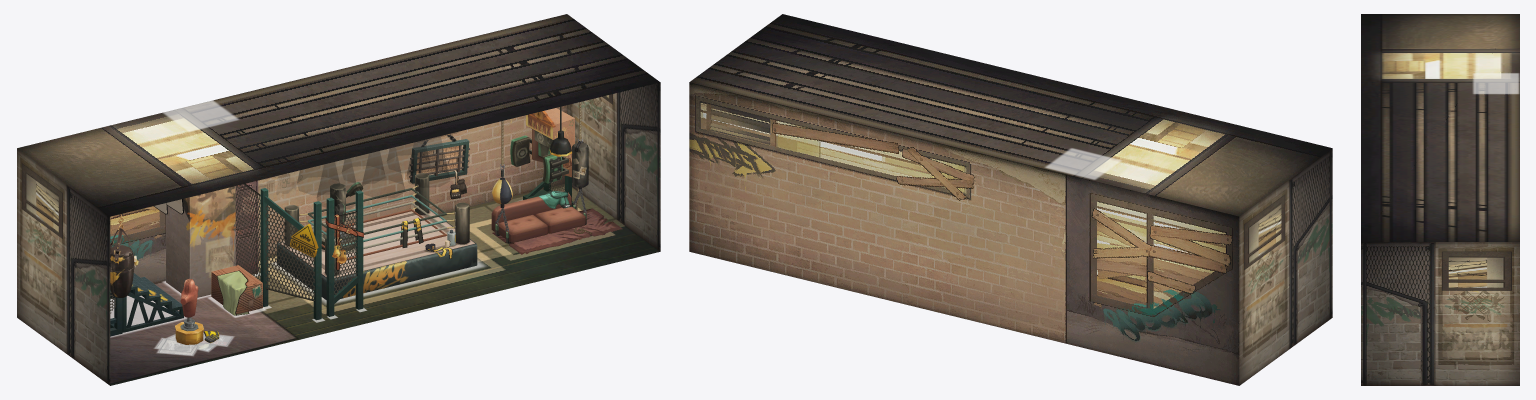
The model's file is boxing.glb.
3 views of the same model, side by side, from view 1: azimuth 30°, elevation 25°; view 2: azimuth 150°, elevation 25°; view 3: azimuth 270°, elevation 25° (orthographic). The views are drawn at different scales.
Parts seen in each view (by area): view 1: ROOM_room, ROOM_floor, furni_boxing_arena_01, furni_boxing_ceilingLight_light_01, furni_boxing_column_01, furni_boxing_sofa_01, furni_boxing_fencing_01, furni_boxing_fencing_02, furni_boxing_gameMachine_01, furni_boxing_spurtsdraw_01, furni_boxing_fencing2_01, furni_boxing_stair_01 (+15 smaller); view 2: ROOM_room, ROOM_LDoor, shadow_02; view 3: ROOM_room, ROOM_RDoor, shadow_02.
Part boxes in pixels (left/top/right/bottom): ROOM_room: left=17, top=14, right=660, bottom=385; ROOM_floor: left=110, top=184, right=660, bottom=385; furni_boxing_arena_01: left=277, top=173, right=477, bottom=299; furni_boxing_ceilingLight_light_01: left=297, top=136, right=449, bottom=208; furni_boxing_column_01: left=166, top=103, right=235, bottom=297; furni_boxing_sofa_01: left=491, top=102, right=592, bottom=243; furni_boxing_fencing_01: left=235, top=180, right=321, bottom=320; furni_boxing_fencing_02: left=235, top=183, right=314, bottom=301; furni_boxing_gameMachine_01: left=510, top=108, right=574, bottom=206; furni_boxing_spurtsdraw_01: left=258, top=150, right=435, bottom=215; furni_boxing_fencing2_01: left=326, top=190, right=363, bottom=316; furni_boxing_stair_01: left=110, top=273, right=183, bottom=336; ROOM_room: left=689, top=14, right=1332, bottom=385; ROOM_LDoor: left=1300, top=251, right=1318, bottom=341; shadow_02: left=1045, top=148, right=1121, bottom=179; ROOM_room: left=1361, top=14, right=1519, bottom=385; ROOM_RDoor: left=1384, top=320, right=1416, bottom=385; shadow_02: left=1473, top=73, right=1519, bottom=93.
Bounding box in the file's own units: 7.51 × 2.21 × 2.23.
7 materials, 7 textured.
